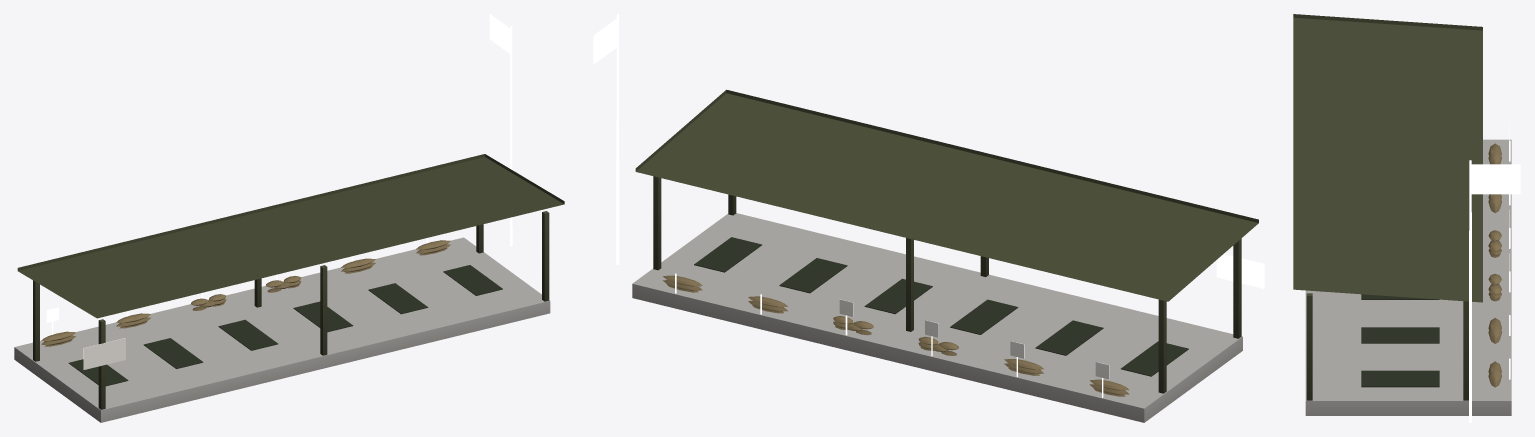
The model's file is range_firing_point.glb.
3 renders of one model, left to right at view 1: azimuth 30°, elevation 25°; view 2: azimuth 150°, elevation 25°; view 3: azimuth 270°, elevation 25°, orthographic. The views are drawn at different scales.
Visible parts, largest first — view 1: range_firing_point_LOD0; view 2: range_firing_point_LOD0; view 3: range_firing_point_LOD0.
Boxes of the visible parts, x1,y1,x2,y2 form: range_firing_point_LOD0: (14, 14, 564, 422); range_firing_point_LOD0: (593, 14, 1264, 422); range_firing_point_LOD0: (1293, 14, 1520, 422).
Size of what is drawn, in the model's own units: 16.64 by 7.3 by 5.52.
